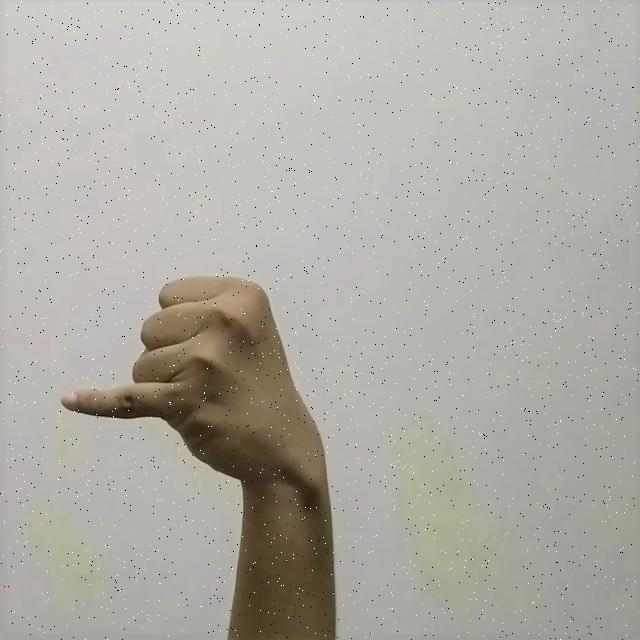J: (53, 258, 335, 503)
